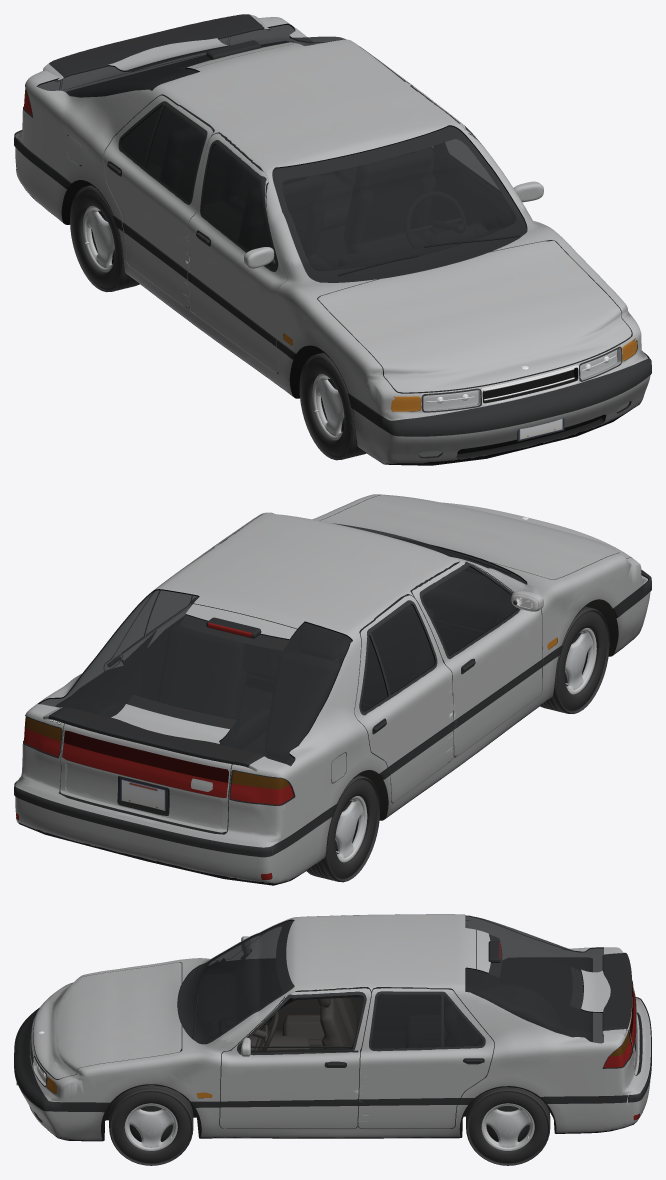
File: car_hero.glb
The picture shows the model from 3 angles, top to bottom: view 1: azimuth 30°, elevation 25°; view 2: azimuth 150°, elevation 25°; view 3: azimuth 270°, elevation 25°; orthographic projection. The views are drawn at different scales.
Visible parts, largest first — view 1: body, wheel_FR, wheel_RR; view 2: body, wheel_FR, wheel_RR; view 3: body, wheel_FL, wheel_RL.
Boxes of the visible parts, bbox=[...] form: body: bbox=[14, 14, 651, 465]; wheel_FR: bbox=[299, 352, 366, 460]; wheel_RR: bbox=[70, 185, 139, 292]; body: bbox=[14, 494, 651, 885]; wheel_FR: bbox=[540, 606, 609, 713]; wheel_RR: bbox=[306, 775, 379, 882]; body: bbox=[14, 914, 651, 1141]; wheel_FL: bbox=[109, 1085, 193, 1165]; wheel_RL: bbox=[466, 1087, 550, 1165].
Size of the model in its own units: 1.99 by 1.42 by 4.78.
12 materials, 1 textured.
